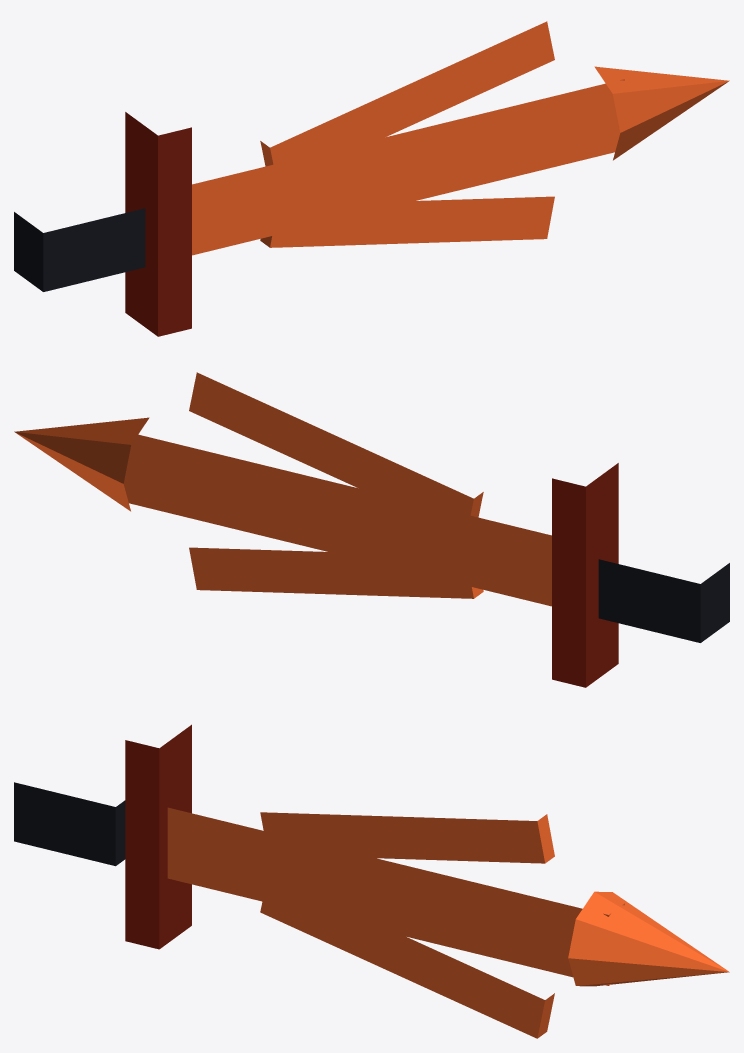
The model's file is ember-spirit.glb.
3 views of the same model, one above another, from view 1: azimuth 30°, elevation 25°; view 2: azimuth 150°, elevation 25°; view 3: azimuth 330°, elevation 25° (orthographic).
Visible parts, largest first — view 1: ember-spirit-blade, ember-spirit-flame-fin (×2), ember-spirit-guard, ember-spirit-grip, ember-spirit-tip; view 2: ember-spirit-blade, ember-spirit-flame-fin (×2), ember-spirit-guard, ember-spirit-grip, ember-spirit-tip; view 3: ember-spirit-blade, ember-spirit-flame-fin (×2), ember-spirit-guard, ember-spirit-tip, ember-spirit-grip.
Part boxes in pixels (bbox=[...]): ember-spirit-blade: bbox=[192, 79, 624, 255]; ember-spirit-flame-fin (×2): bbox=[260, 21, 554, 247]; ember-spirit-guard: bbox=[125, 112, 191, 336]; ember-spirit-grip: bbox=[14, 208, 145, 291]; ember-spirit-tip: bbox=[594, 66, 729, 160]; ember-spirit-blade: bbox=[119, 430, 551, 606]; ember-spirit-flame-fin (×2): bbox=[189, 372, 483, 598]; ember-spirit-guard: bbox=[552, 463, 618, 687]; ember-spirit-grip: bbox=[598, 559, 729, 642]; ember-spirit-tip: bbox=[14, 417, 149, 511]; ember-spirit-blade: bbox=[167, 807, 624, 985]; ember-spirit-flame-fin (×2): bbox=[260, 812, 554, 1038]; ember-spirit-guard: bbox=[125, 724, 191, 949]; ember-spirit-tip: bbox=[568, 891, 729, 986]; ember-spirit-grip: bbox=[14, 782, 125, 866].
Bounding box in the file's own units: 1.24 × 0.3679 × 0.16.
